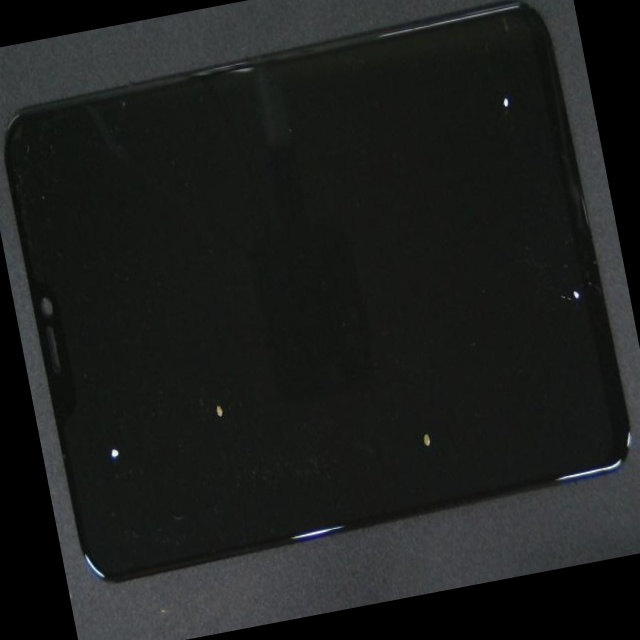stain: (178, 124, 619, 626), (292, 131, 640, 500), (87, 154, 333, 621), (248, 0, 600, 199), (55, 300, 202, 640)
